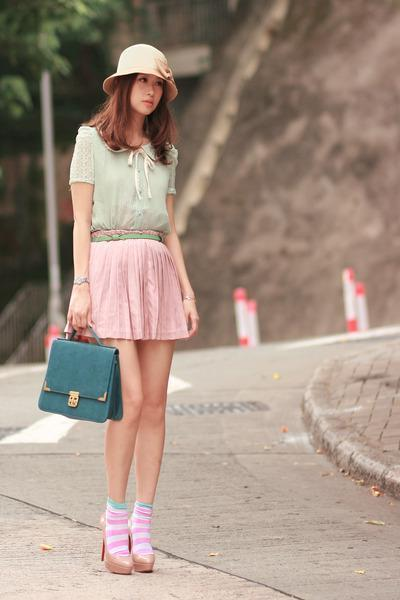short sleeve shirt: (67, 125, 179, 236)
skirt: (74, 228, 189, 342)
